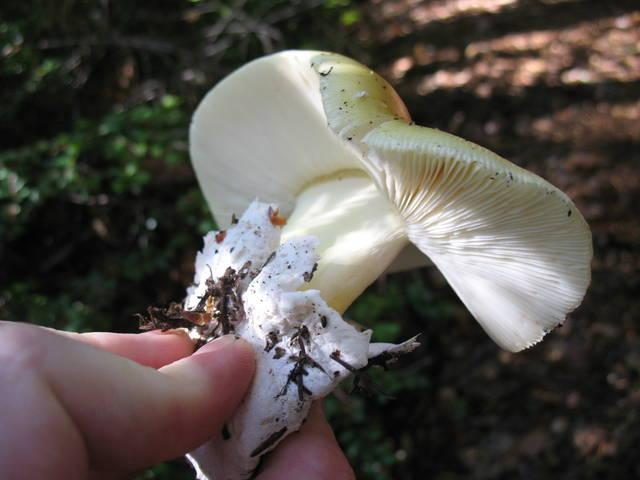Edible Mushroom: (140, 47, 594, 478)
